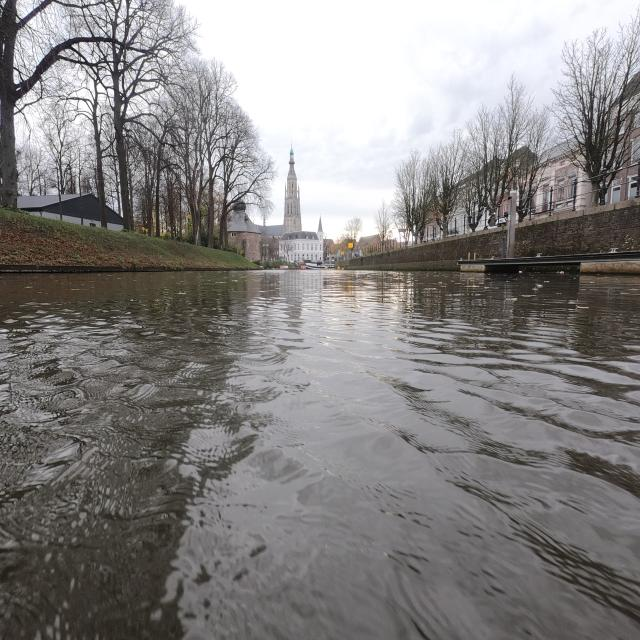dock: (458, 250, 640, 274)
grass: (0, 208, 259, 271)
sky: (178, 0, 640, 239)
water: (0, 270, 640, 640)
